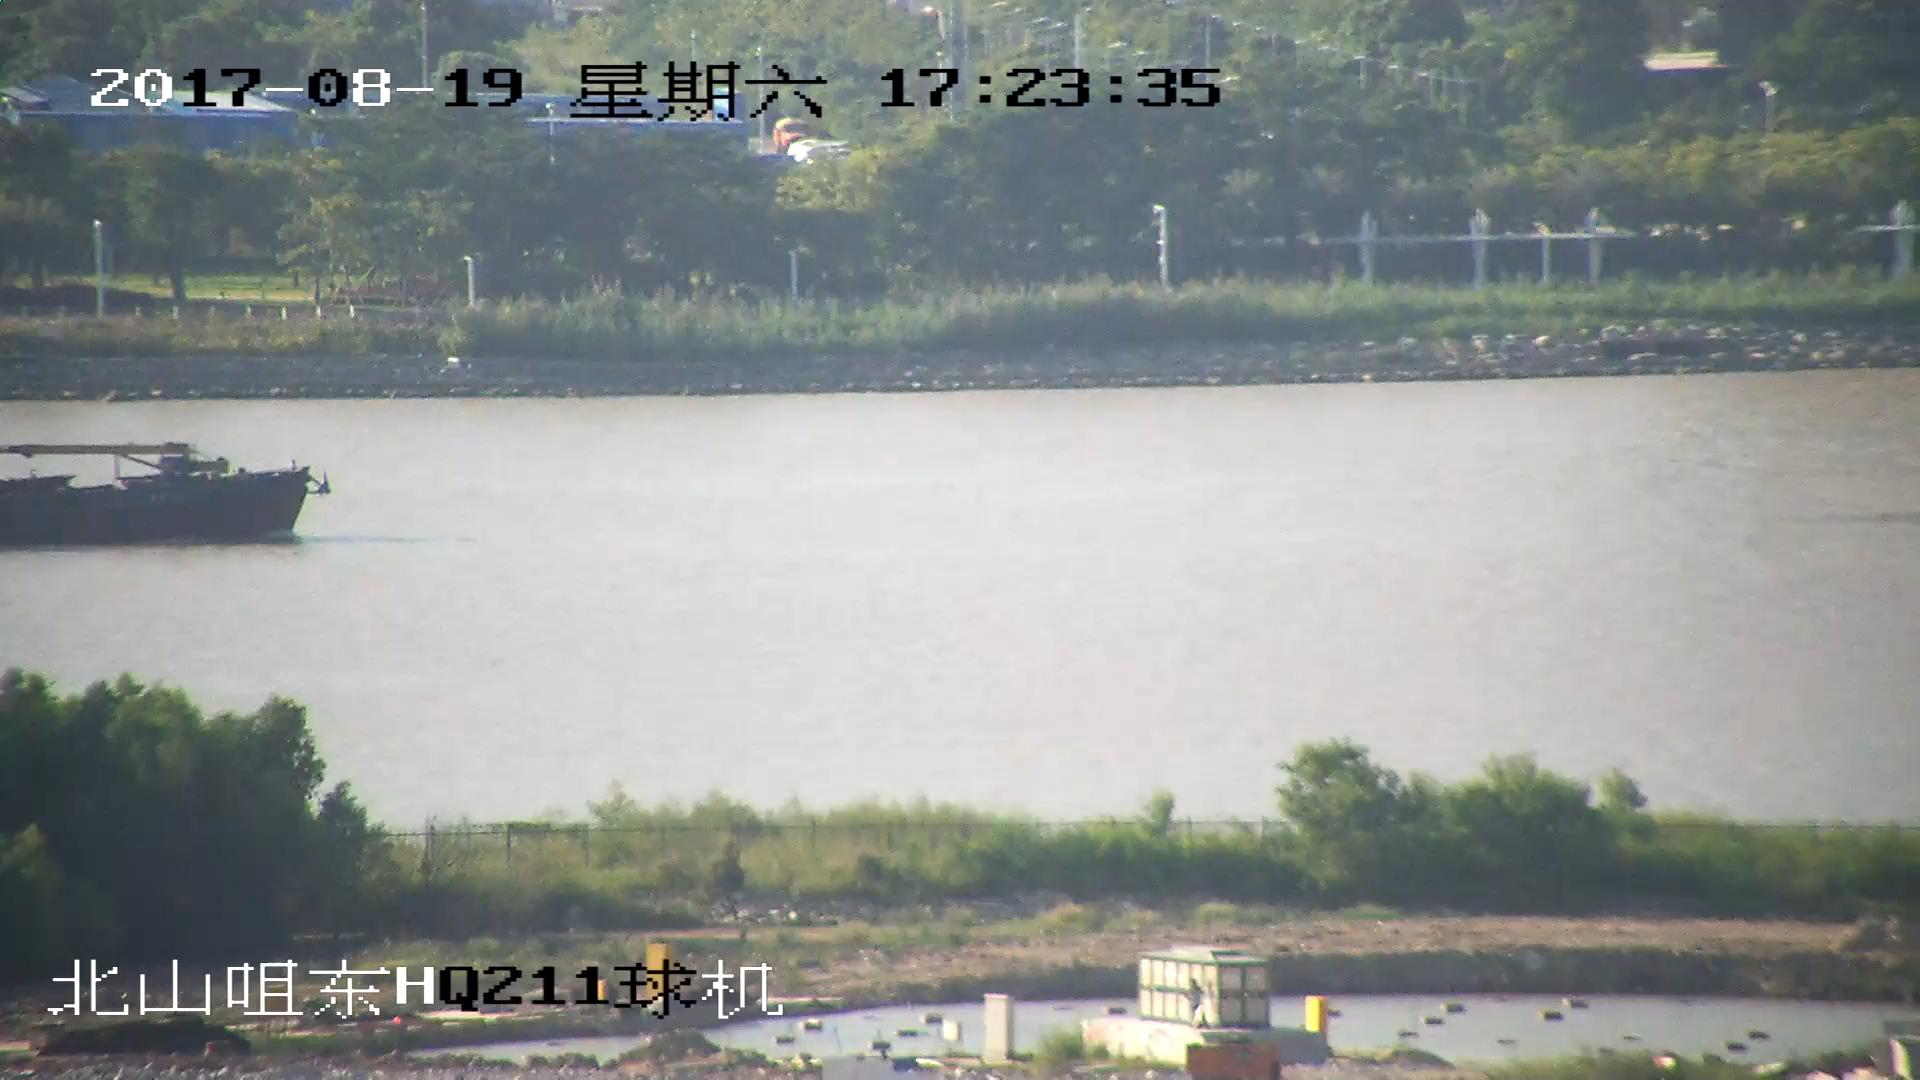bulk cargo carrier: (1, 441, 337, 540)
